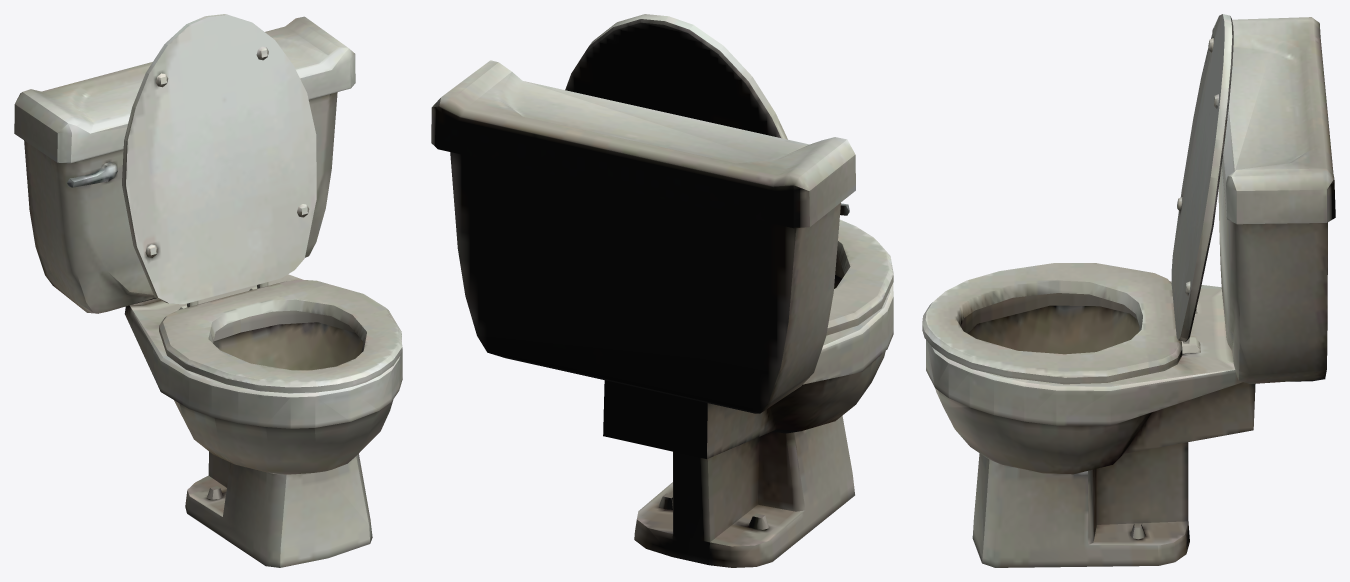
The model's file is skibidi_toilet_template.glb.
The picture shows the model from 3 angles, left to right: view 1: azimuth 30°, elevation 25°; view 2: azimuth 150°, elevation 25°; view 3: azimuth 270°, elevation 25°; orthographic projection. The views are drawn at different scales.
Visible parts, largest first — view 1: Object_2; view 2: Object_2; view 3: Object_2.
Boxes of the visible parts, x1,y1,x2,y2 form: Object_2: (14,14,402,567); Object_2: (431,14,893,567); Object_2: (922,14,1335,567).
Size of the model in its own units: 3.04 by 4.34 by 3.17.
Materials: 1 (1 with a texture image).
